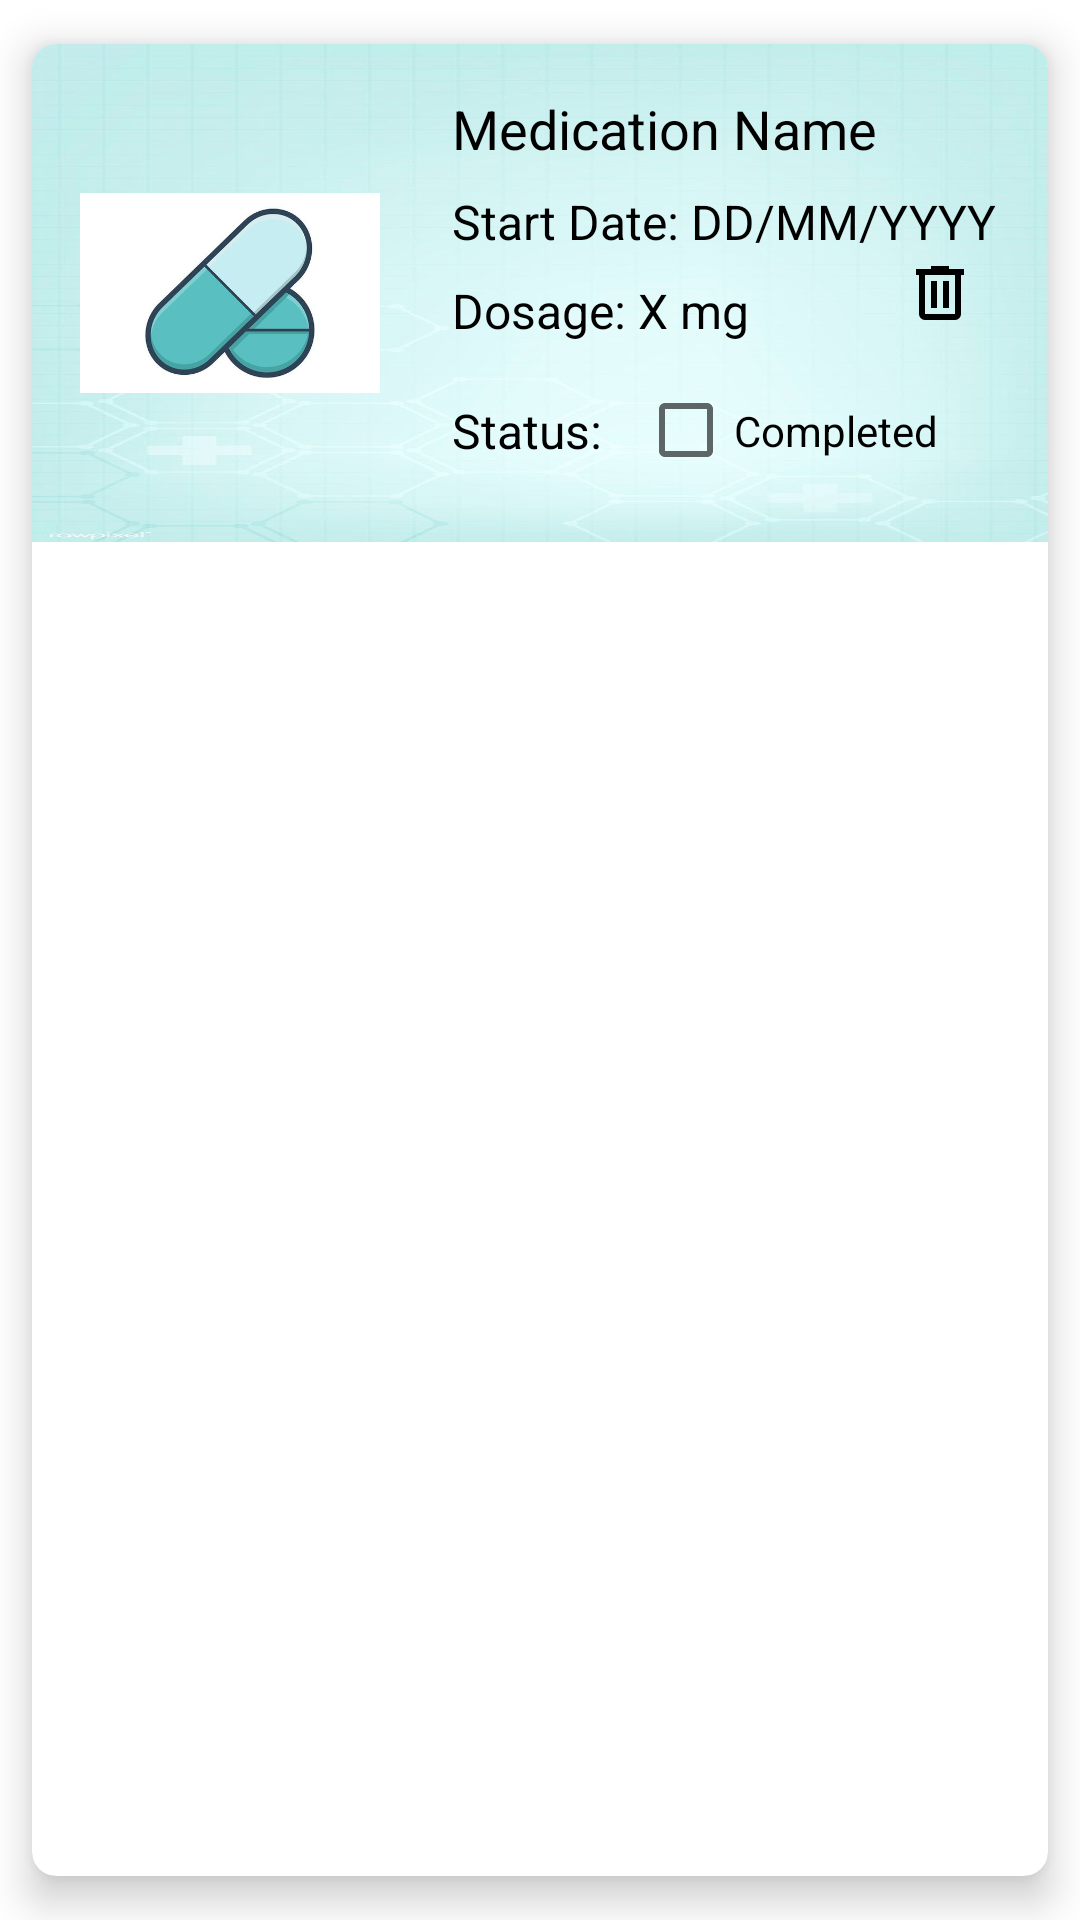

Icon click points for this 1080 × 1920 phone screenshot, format (x=x, y=y):
delete: (x=940, y=293)
